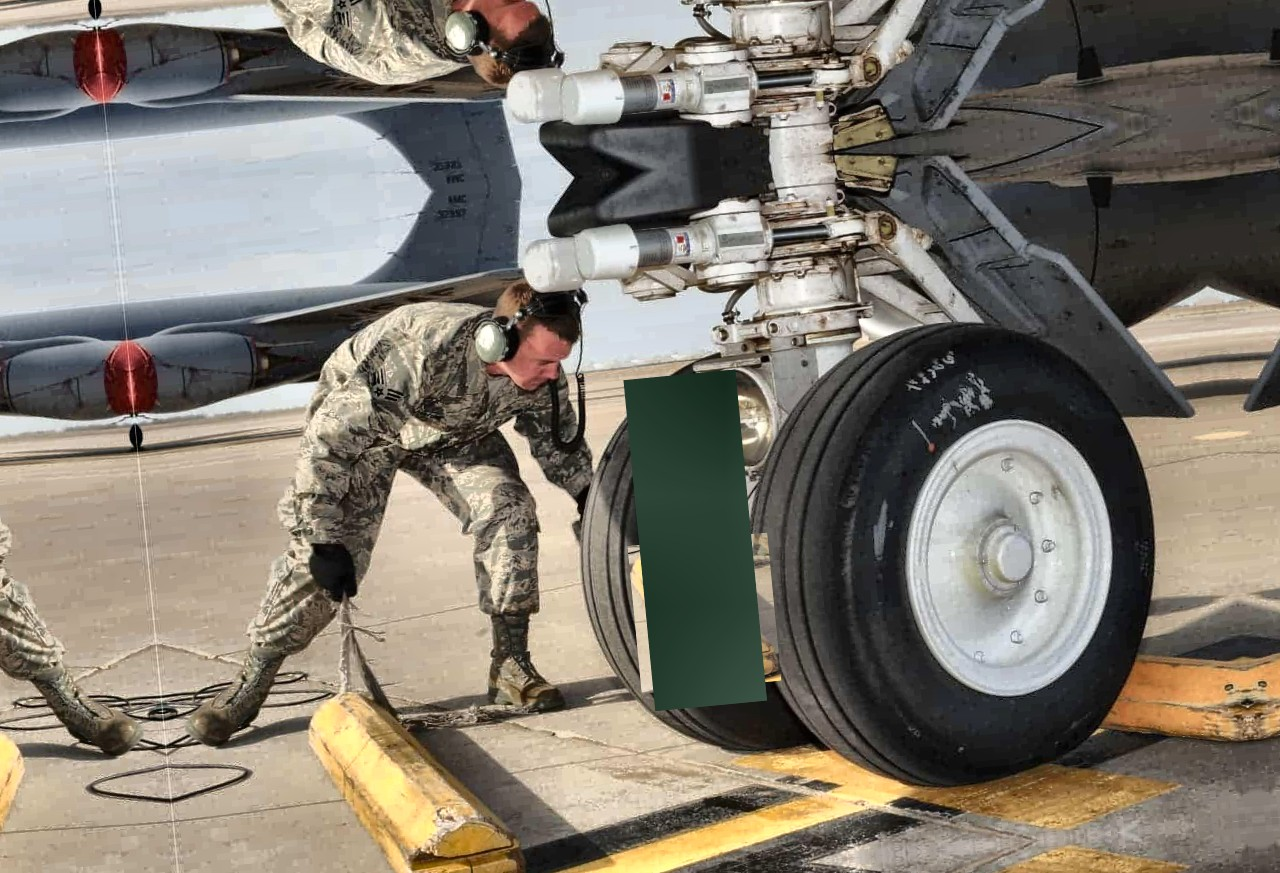chock: (303, 671, 530, 873), (627, 533, 781, 694)
wheel: (723, 305, 1169, 798), (564, 345, 832, 767)
